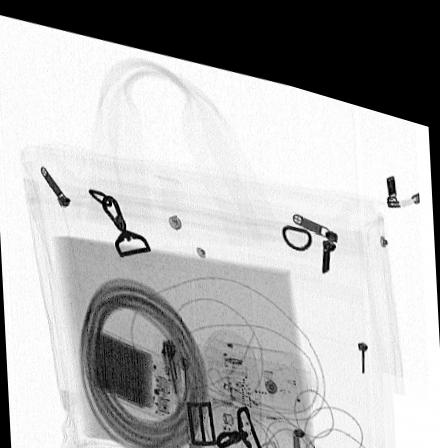Powerbank: (90, 321, 174, 414)
